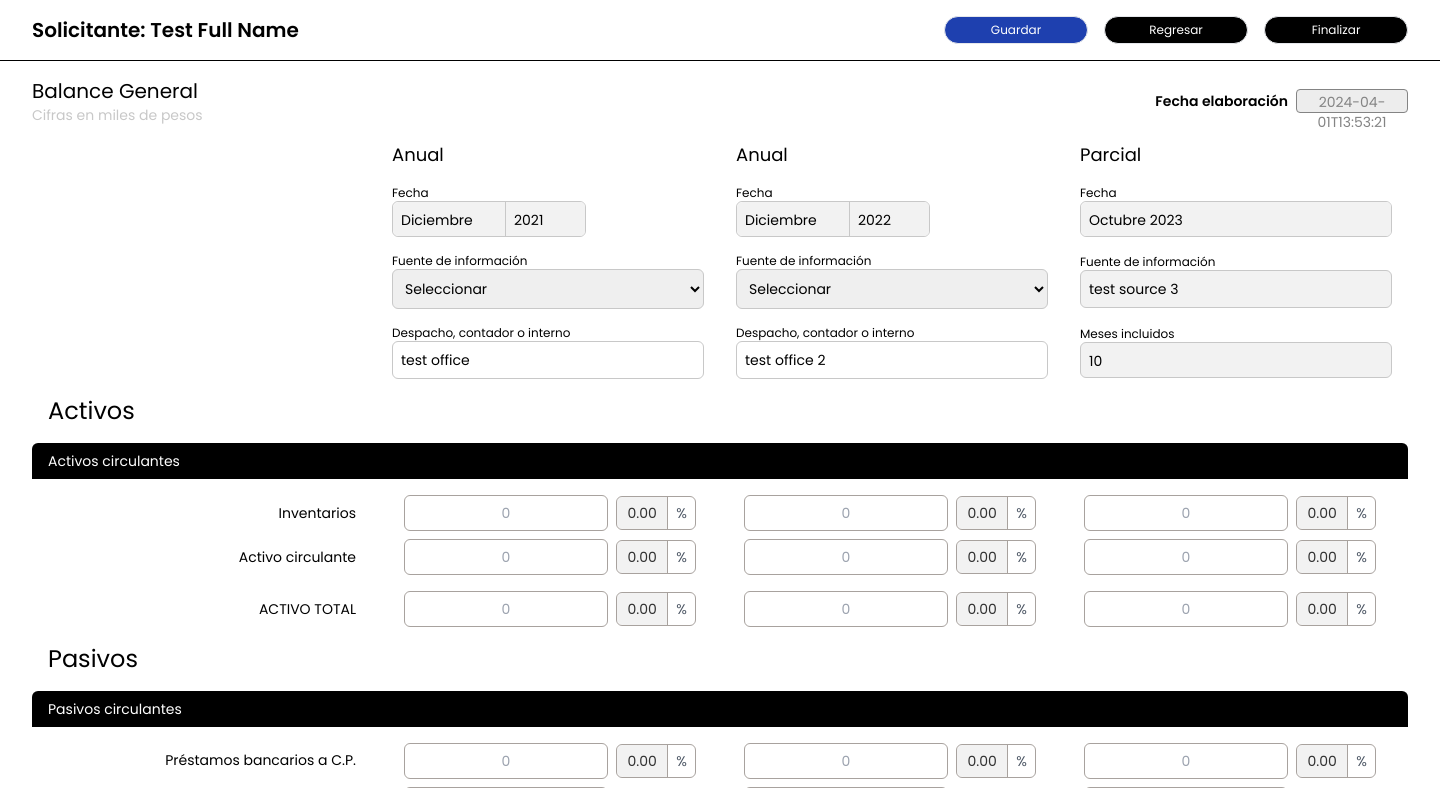
Test: GeneralBalance page › it should calculate "Inventarios" percentage based on "ACTIVO TOTAL"
The image size is (1440, 788).
Type "480" into the 1st field with placeholder "0" at (506,513), box [404, 495, 608, 531]
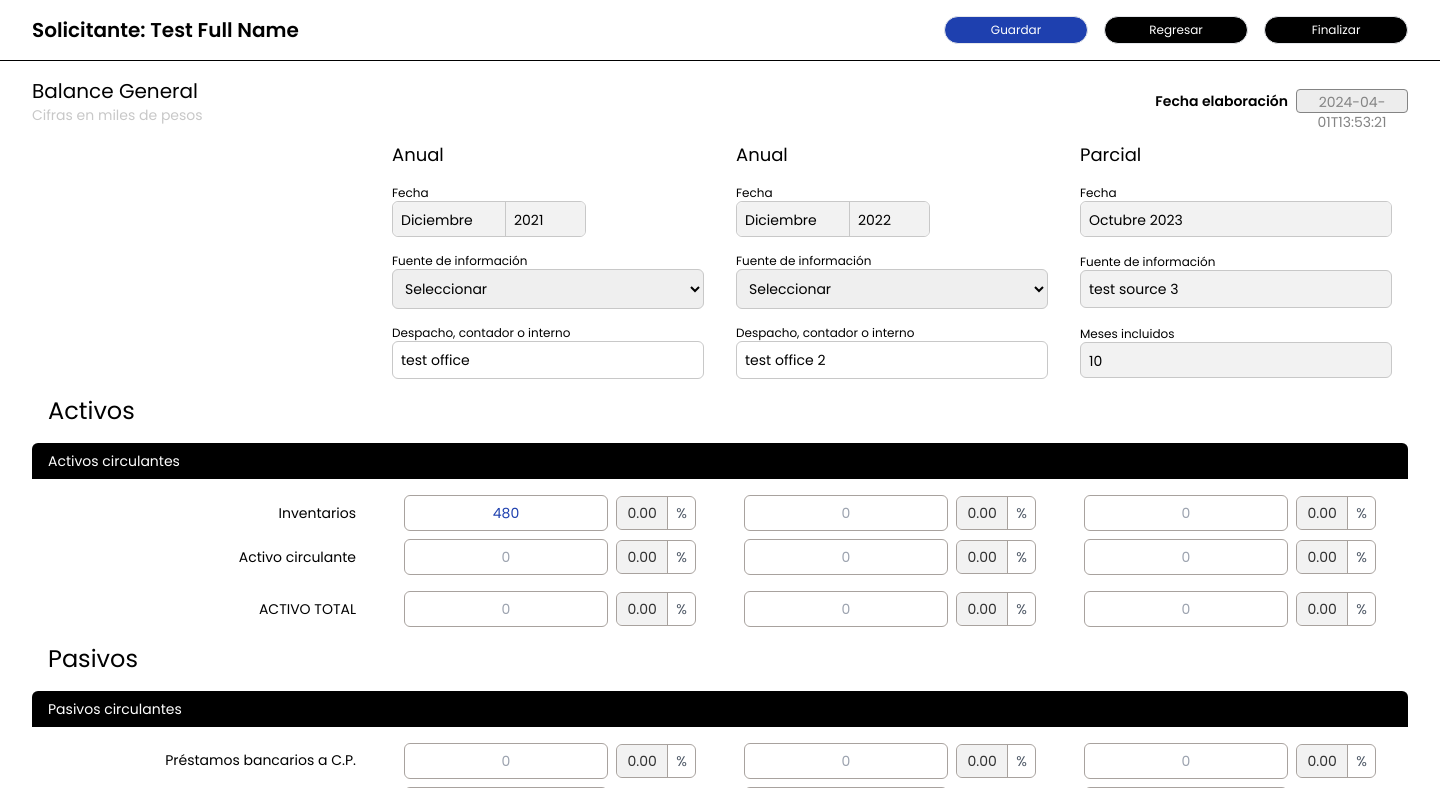
Type "1000" into the 6th field with placeholder "0" at (506,609), box [404, 591, 608, 627]
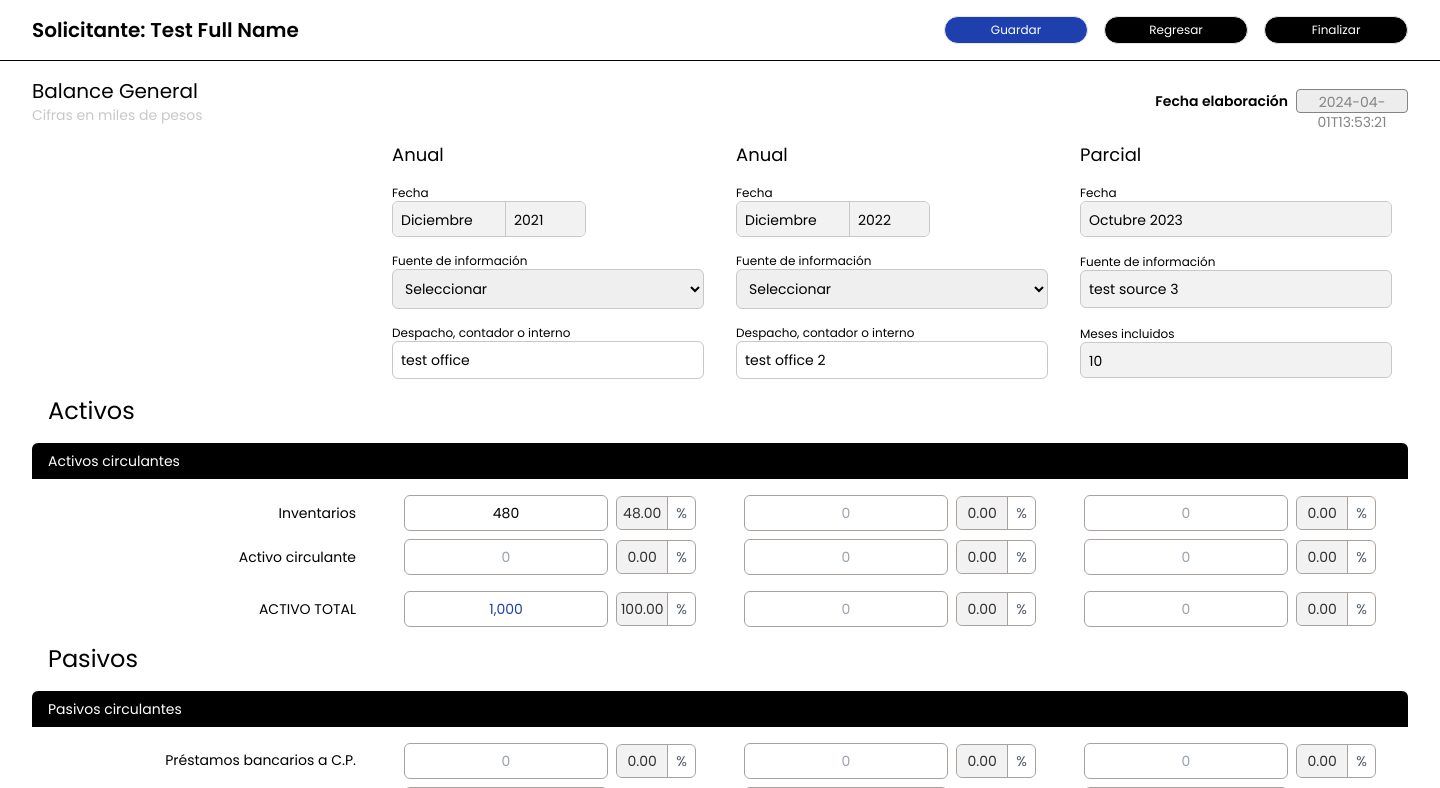
Check: the 2nd field showing "48.00" is shown, box [617, 497, 667, 529]
